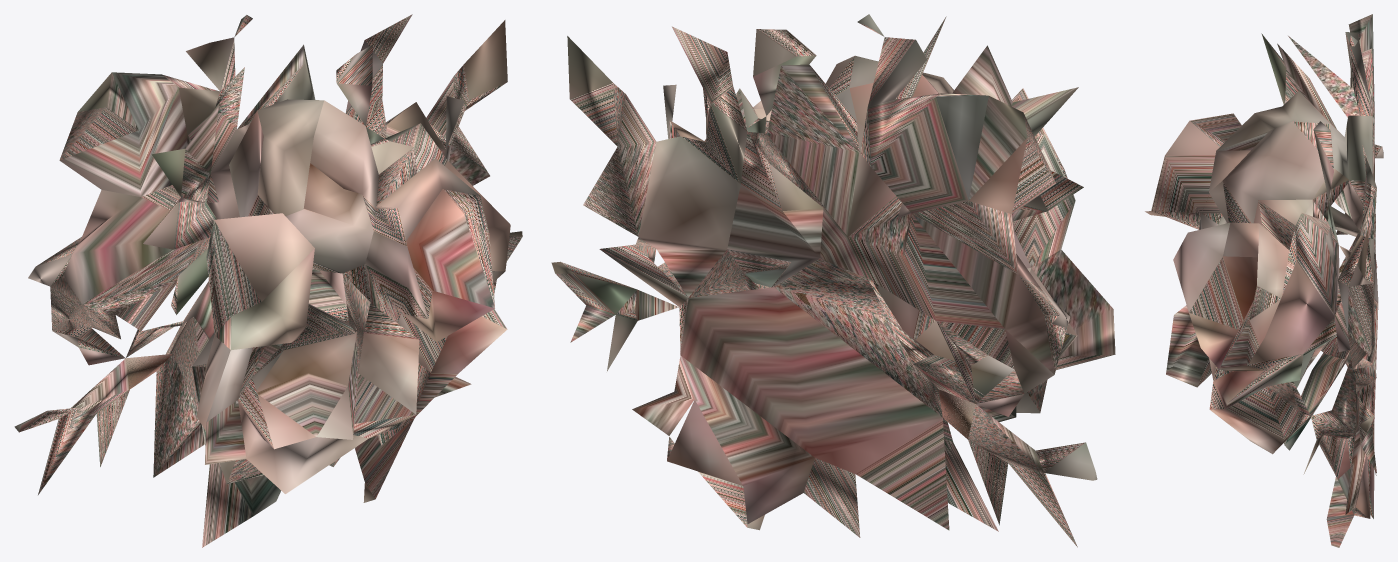
3 views of the same model, side by side, from view 1: azimuth 30°, elevation 25°; view 2: azimuth 150°, elevation 25°; view 3: azimuth 270°, elevation 25° (orthographic). The views are drawn at different scales.
Parts seen in each view (by area): view 1: Rose-Bouquet-9-23; view 2: Rose-Bouquet-9-23; view 3: Rose-Bouquet-9-23.
Boxes of the visible parts, x1,y1,x2,y2 form: Rose-Bouquet-9-23: (14,14,522,547); Rose-Bouquet-9-23: (551,14,1115,547); Rose-Bouquet-9-23: (1145,14,1383,547).
Bounding box in the file's own units: 0.2369 × 0.2288 × 0.1076.
Materials: 1 (1 with a texture image).
